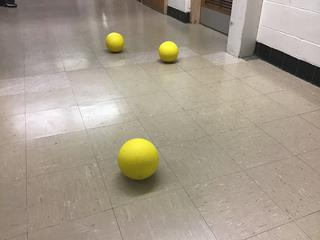power_cell: (117, 138, 158, 181), (103, 32, 125, 51), (158, 41, 180, 60)
